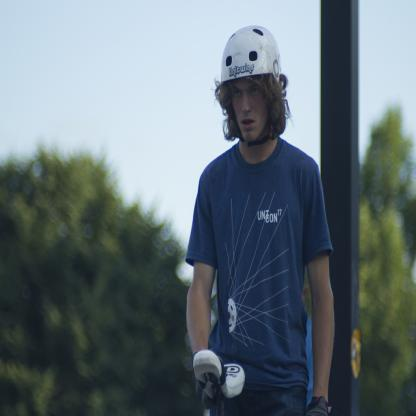Helmet: (216, 22, 284, 154)
